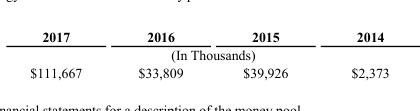table: (29, 28, 388, 79)
table column: (212, 28, 319, 79), (109, 28, 212, 79), (29, 28, 109, 79), (319, 28, 388, 79)
table column header: (29, 28, 388, 45)
table projected row header: (29, 45, 388, 63)
table row: (29, 45, 388, 63), (29, 28, 388, 45), (29, 63, 388, 79)
